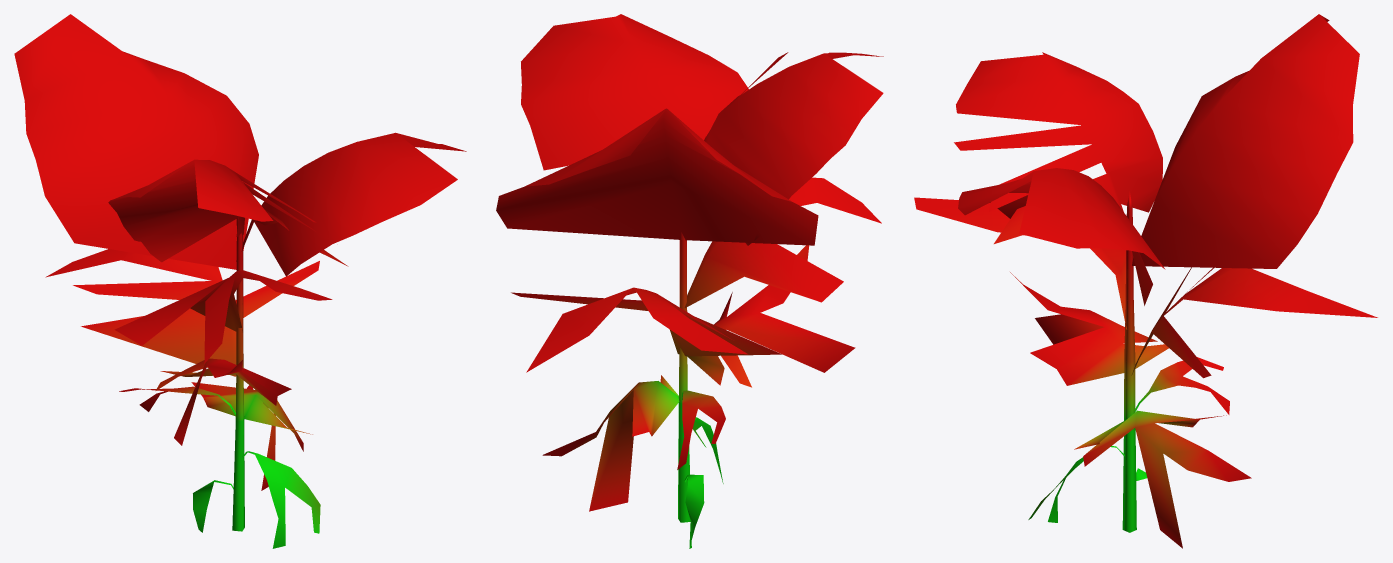
Rendered from Cane Palm_LOD1_Var3_siBmK.fbx.
The picture shows the model from 3 angles, left to right: view 1: azimuth 30°, elevation 25°; view 2: azimuth 150°, elevation 25°; view 3: azimuth 270°, elevation 25°; orthographic projection. The views are drawn at different scales.
Parts seen in each view (by area): view 1: _ad8b_Var3_LOD1; view 2: _ad8b_Var3_LOD1; view 3: _ad8b_Var3_LOD1.
Part boxes in pixels (x1,y1,x2,y2): _ad8b_Var3_LOD1: (14,14,466,548); _ad8b_Var3_LOD1: (496,14,883,548); _ad8b_Var3_LOD1: (914,14,1377,548).
Size of the model in its own units: 18.89 by 25.57 by 22.08.
